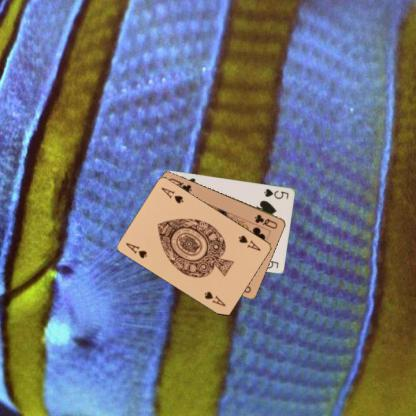5s: (262, 186, 290, 200)
As: (236, 232, 262, 252), (123, 240, 149, 259)
Qc: (252, 211, 279, 230)
